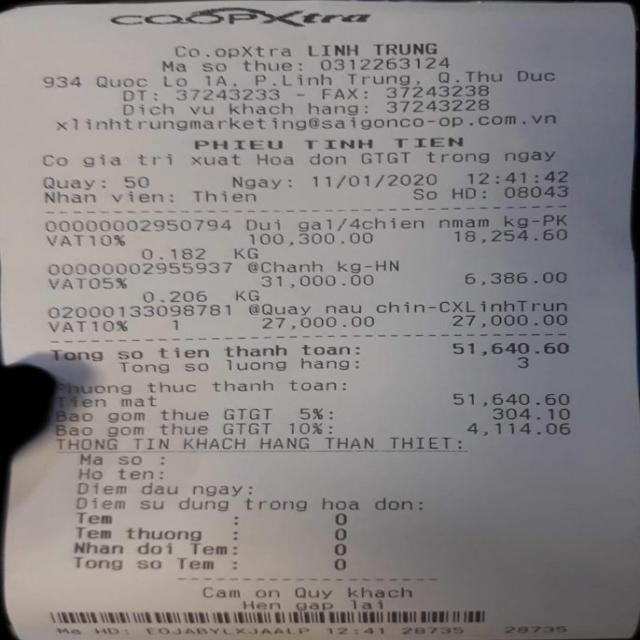Date: (308, 172, 451, 189)
Store_Name: (162, 36, 449, 57)
Total_Amount: (45, 338, 573, 359)
